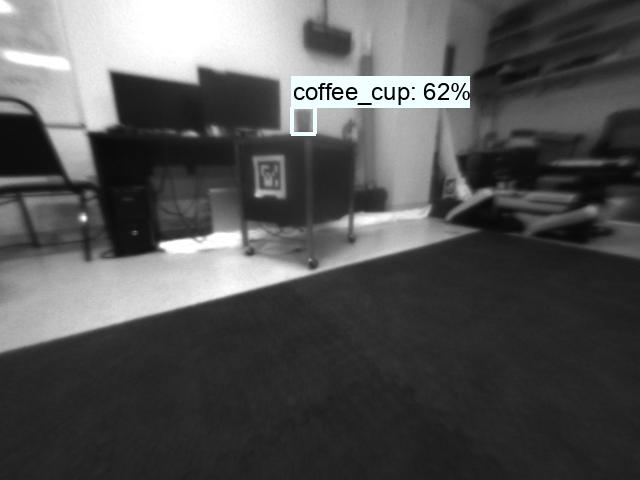coffee_cup: (291, 107, 315, 134)
